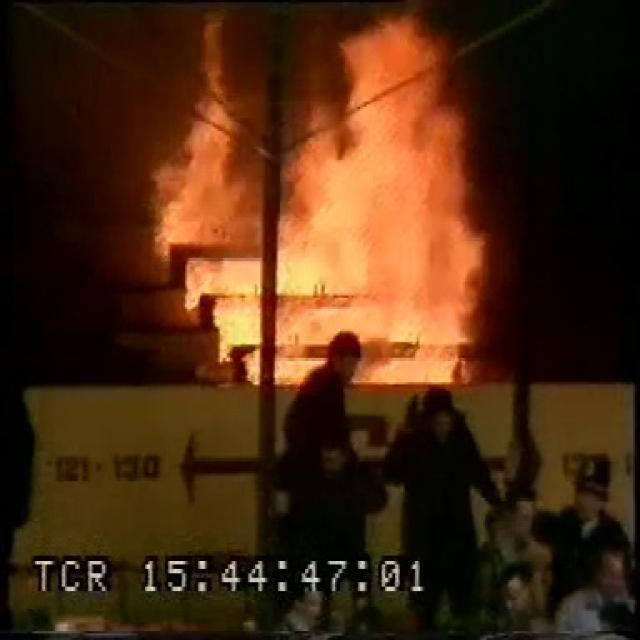Fire: (150, 0, 486, 386)
